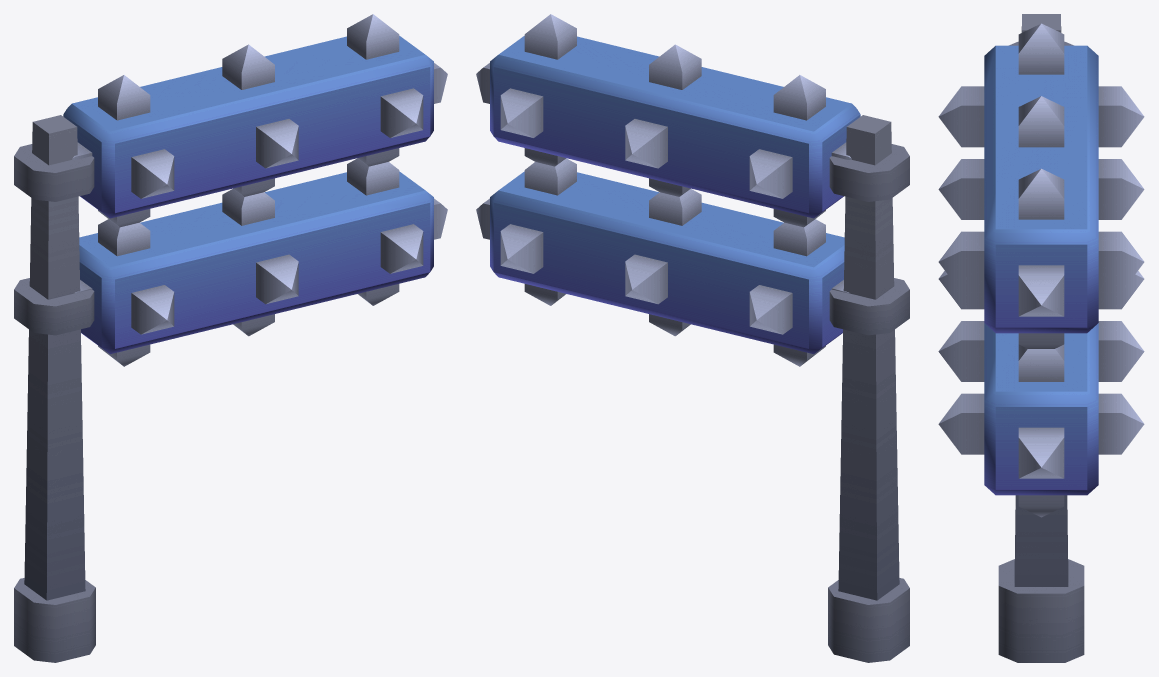
The model's file is arc-trap.glb.
The picture shows the model from 3 angles, left to right: view 1: azimuth 30°, elevation 25°; view 2: azimuth 150°, elevation 25°; view 3: azimuth 270°, elevation 25°; orthographic projection. The views are drawn at different scales.
Visible parts, largest first — view 1: flag; view 2: flag; view 3: flag.
Boxes of the visible parts, bbox=[...] form: flag: bbox=[14, 14, 447, 662]; flag: bbox=[476, 14, 909, 662]; flag: bbox=[938, 14, 1144, 662].
Size of the model in its own units: 0.7659 by 0.9565 by 0.27.
Materials: 3 (3 with a texture image).
